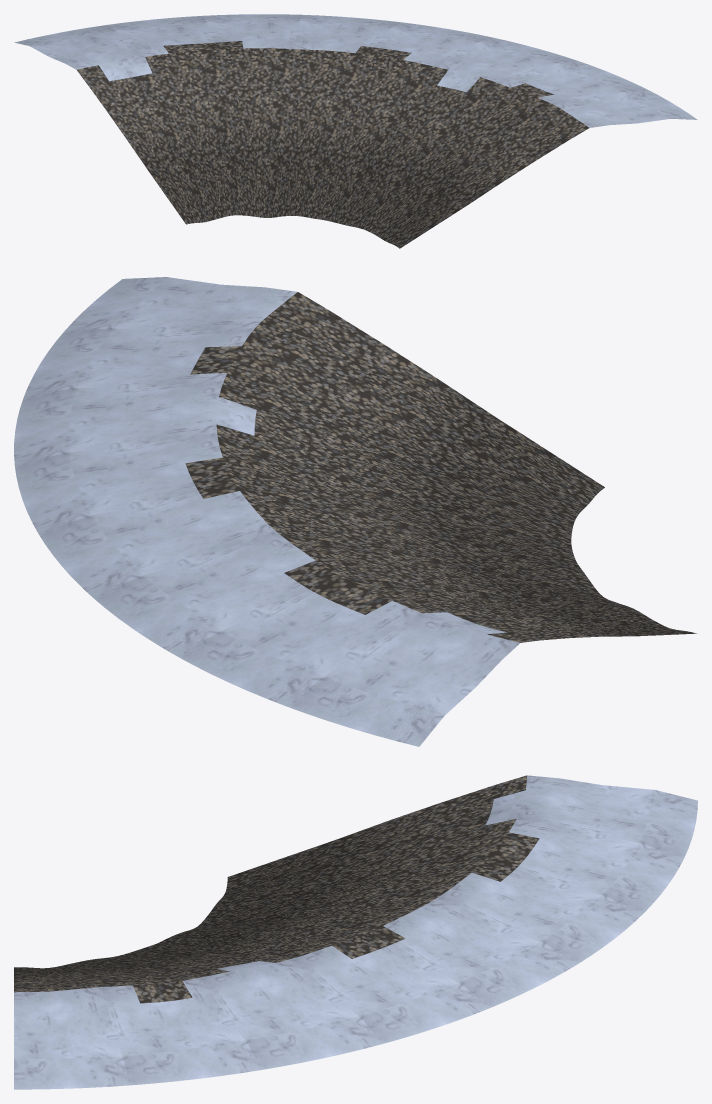
File: beach_shingle_inner_v5_winter.glb
The picture shows the model from 3 angles, top to bottom: view 1: azimuth 30°, elevation 25°; view 2: azimuth 150°, elevation 25°; view 3: azimuth 270°, elevation 25°; orthographic projection. The views are drawn at different scales.
Visible parts, largest first — view 1: beach_shingle_inner; view 2: beach_shingle_inner; view 3: beach_shingle_inner.
Boxes of the visible parts, left/top/right/bottom form: beach_shingle_inner: left=14, top=14, right=697, bottom=248; beach_shingle_inner: left=14, top=277, right=696, bottom=746; beach_shingle_inner: left=14, top=775, right=697, bottom=1089.
Size of the model in its own units: 6.4 by 1.1 by 6.4.
Materials: 2 (2 with a texture image).
